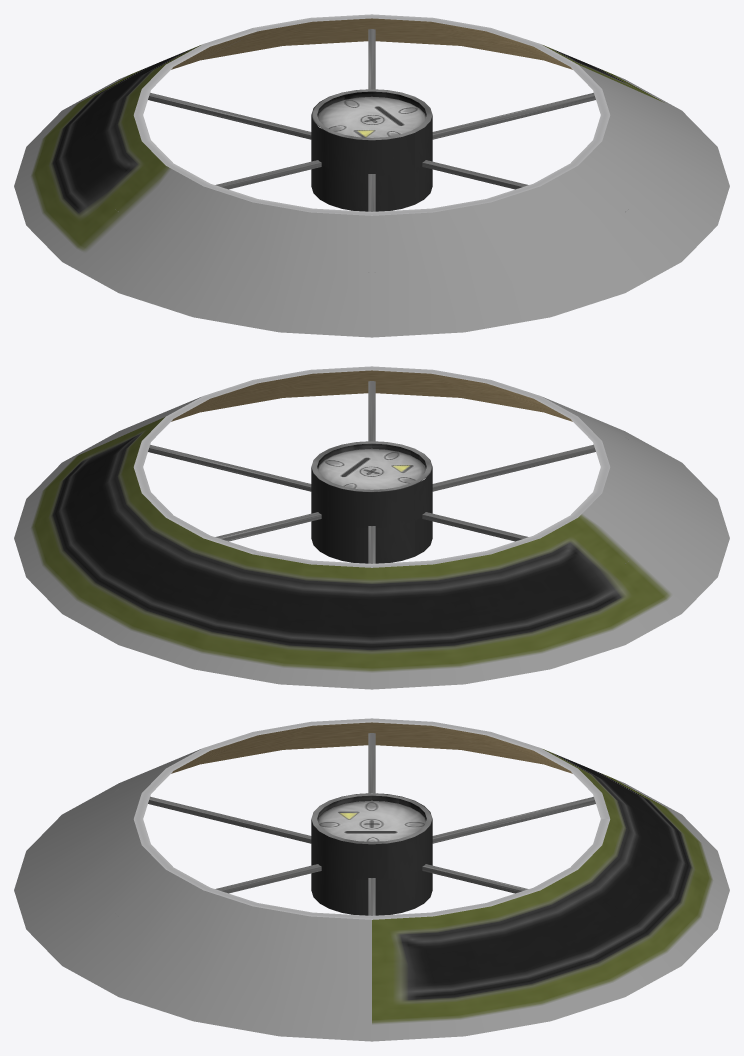
3 renders of one model, top to bottom at view 1: azimuth 30°, elevation 25°; view 2: azimuth 150°, elevation 25°; view 3: azimuth 270°, elevation 25°, orthographic.
Visible parts, largest first — view 1: Adapter25, Cylinder049, Cylinder046, Box110, Box108, Box109; view 2: Adapter25, Cylinder049, Cylinder046, Box108, Box109, Box110; view 3: Adapter25, Cylinder049, Cylinder046, Box110, Box109, Box108.
Boxes of the visible parts, <box> form: Adapter25: <box>14,14,729,337</box>; Cylinder049: <box>311,89,432,175</box>; Cylinder046: <box>311,151,432,211</box>; Box110: <box>148,92,628,211</box>; Box108: <box>115,92,595,211</box>; Box109: <box>368,29,375,272</box>; Adapter25: <box>14,366,729,689</box>; Cylinder049: <box>311,441,432,527</box>; Cylinder046: <box>311,503,432,563</box>; Box108: <box>148,444,628,563</box>; Box109: <box>215,437,628,541</box>; Box110: <box>368,381,375,563</box>; Adapter25: <box>14,718,729,1041</box>; Cylinder049: <box>311,793,432,879</box>; Cylinder046: <box>311,855,432,915</box>; Box110: <box>115,796,595,915</box>; Box109: <box>115,789,528,893</box>; Box108: <box>368,733,375,915</box>.
Size of what is drawn, in the model's own units: 3.75 by 3.75 by 0.4158.
Materials: 1 (1 with a texture image).
